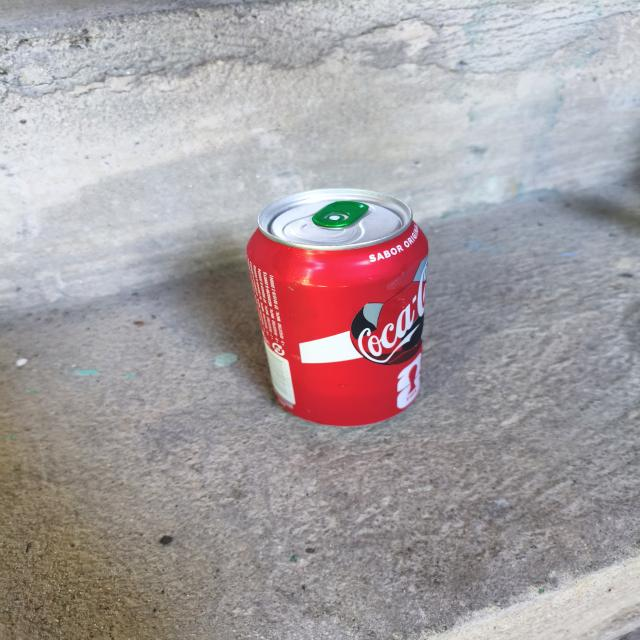Coca Cola: (239, 186, 443, 435)
